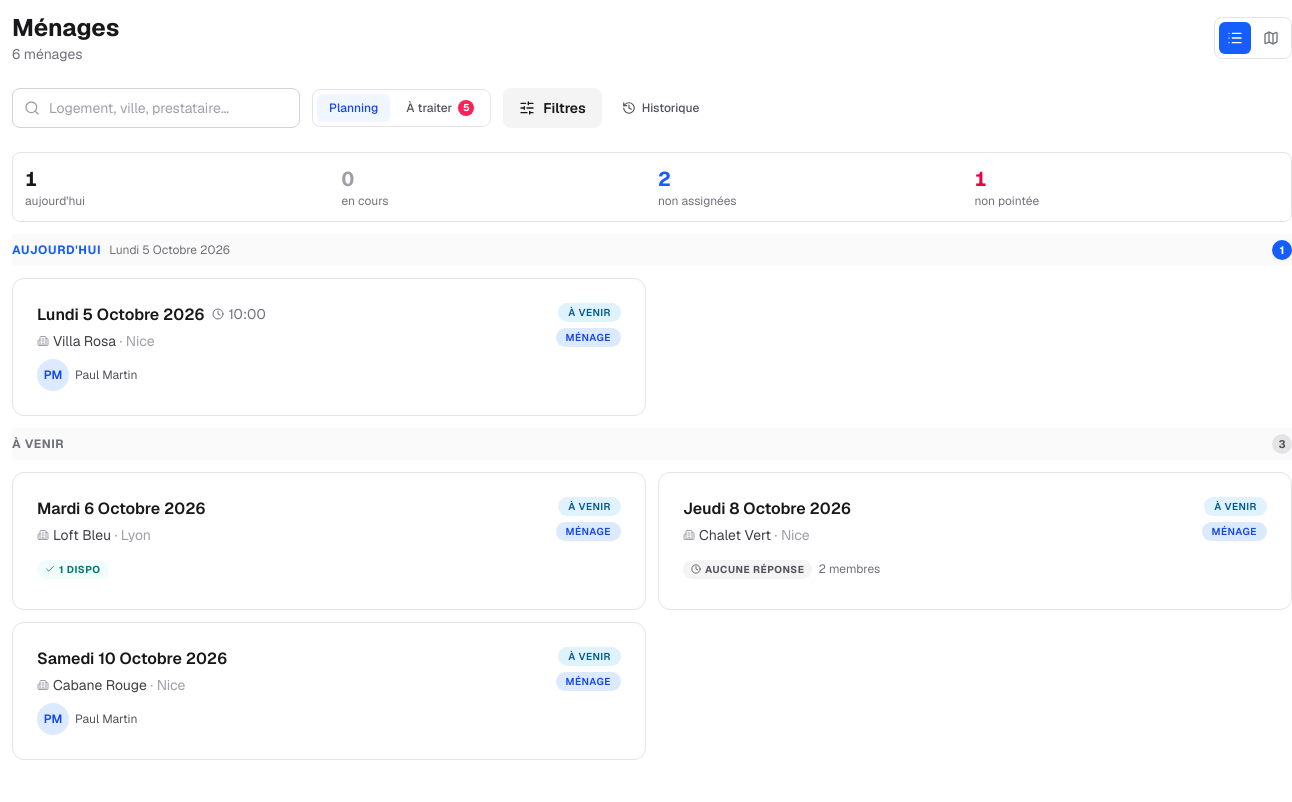
Test case: Liste des prestations — côté prestataire › pas de création, pas de sélection groupée, filtres réduits au logement
Expected: the heading "Aujourd'hui" is shown, [12,242,101,258]
Click the button "Filtres".
click(553, 108)  # box [503,88,602,128]
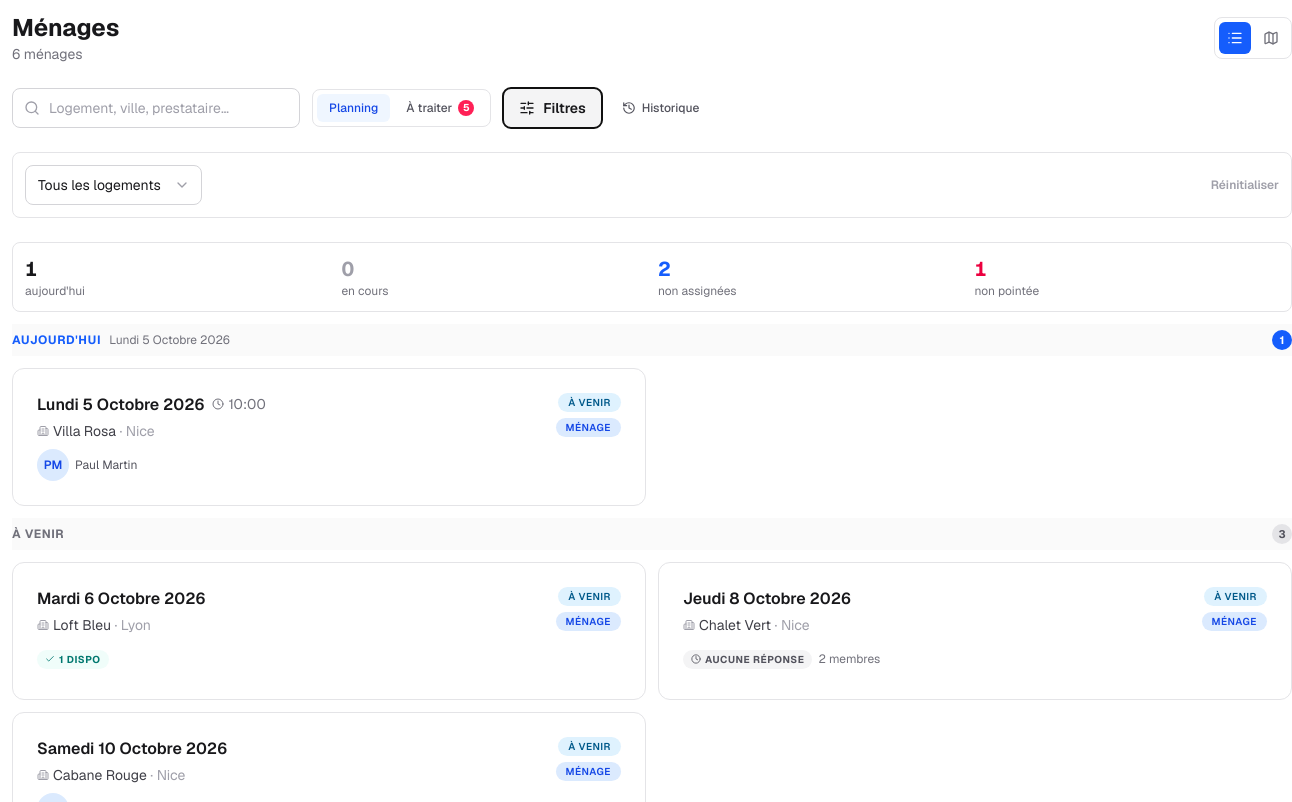
Now the dropdown named "Filtrer par logement" is shown, box [25,165,202,205]
